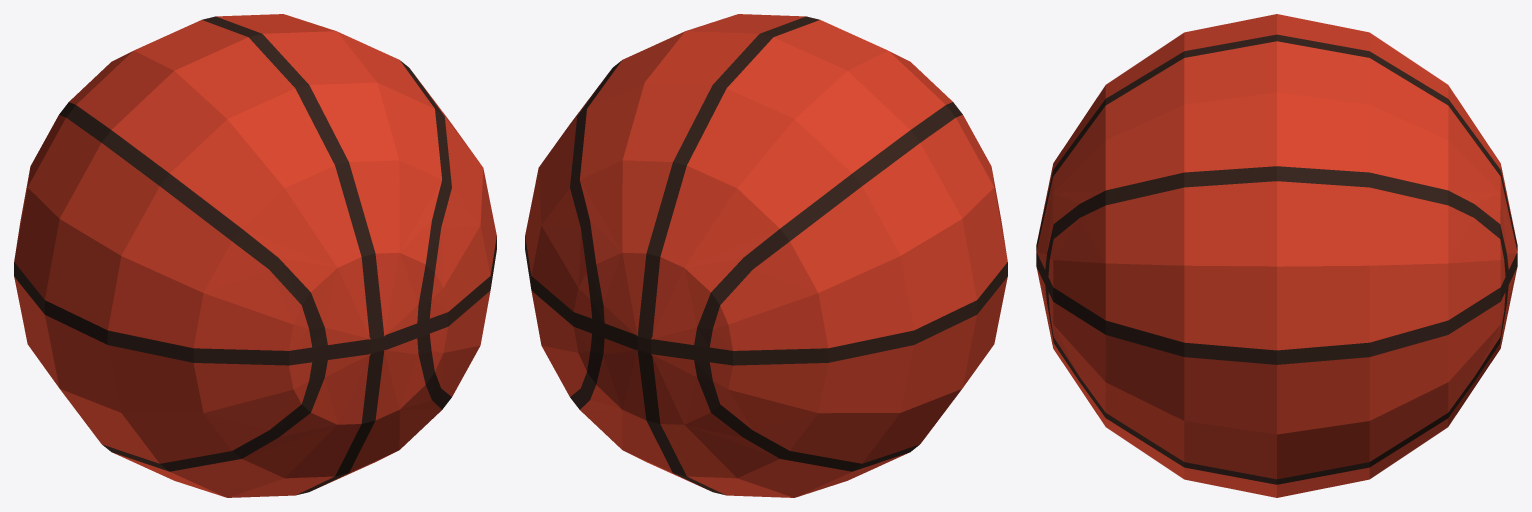
File: basketball.FBX
3 renders of one model, left to right at view 1: azimuth 30°, elevation 25°; view 2: azimuth 150°, elevation 25°; view 3: azimuth 270°, elevation 25°, orthographic.
Visible parts, largest first — view 1: basketball; view 2: basketball; view 3: basketball.
Boxes of the visible parts, box(x1,y1,x2,y2) form: basketball: box(14, 14, 496, 497); basketball: box(525, 14, 1007, 497); basketball: box(1036, 14, 1517, 497).
Bounding box in the file's own units: 6.31 × 6.31 × 6.31.
